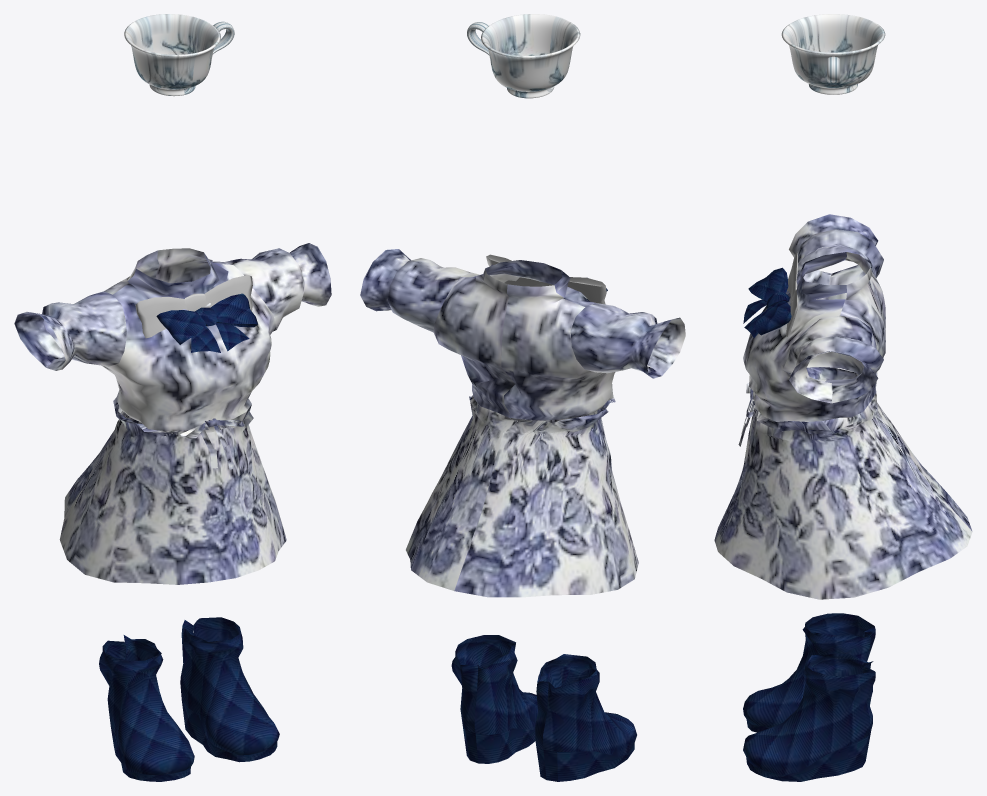
The model's file is TeaP4rtyskirt.fbx.
3 views of the same model, side by side, from view 1: azimuth 30°, elevation 25°; view 2: azimuth 150°, elevation 25°; view 3: azimuth 270°, elevation 25° (orthographic). The views are drawn at different scales.
Visible parts, largest first — view 1: Object_99, Object_99.001, Object_101, Cylinder.020_1, Object_100.001, Object_100; view 2: Object_99, Object_99.001, Object_101, Cylinder.020_1, Object_100; view 3: Object_99.001, Object_99, Object_101, Cylinder.020_1, Object_100.001, Object_100.
Part boxes in pixels (left/top/right/bottom): Object_99: left=14, top=243, right=331, bottom=452; Object_99.001: left=59, top=410, right=286, bottom=584; Object_101: left=99, top=617, right=279, bottom=781; Cylinder.020_1: left=124, top=14, right=220, bottom=96; Object_100.001: left=156, top=293, right=257, bottom=352; Object_100: left=135, top=275, right=252, bottom=338; Object_99: left=360, top=249, right=685, bottom=436; Object_99.001: left=406, top=396, right=638, bottom=597; Object_101: left=451, top=635, right=636, bottom=781; Cylinder.020_1: left=481, top=14, right=580, bottom=98; Object_100: left=486, top=254, right=606, bottom=304; Object_99.001: left=714, top=377, right=972, bottom=599; Object_99: left=743, top=214, right=885, bottom=433; Object_101: left=743, top=613, right=875, bottom=781; Cylinder.020_1: left=781, top=14, right=885, bottom=94; Object_100.001: left=743, top=267, right=791, bottom=337; Object_100: left=786, top=251, right=797, bottom=336.
Bounding box in the file's own units: 1.14 × 2.74 × 0.898.
